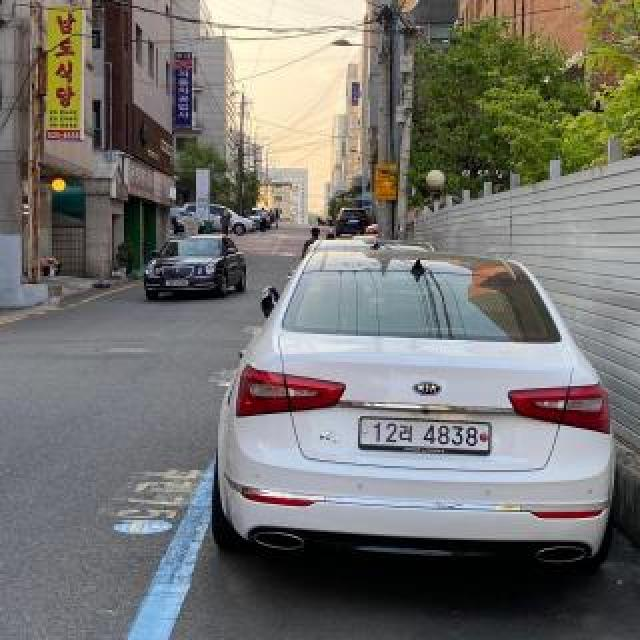car: (215, 242, 619, 590)
illegal_plate: (358, 414, 492, 458)
